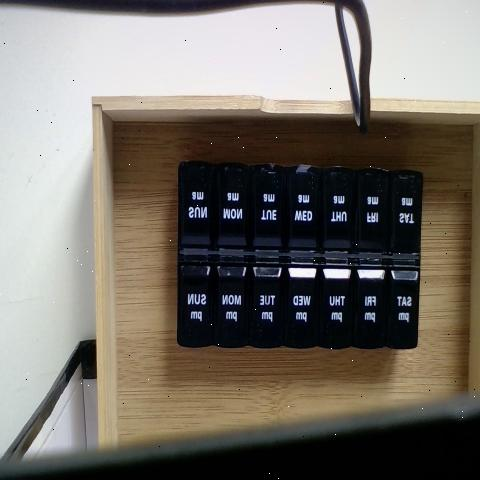FRI-am: (357, 176, 388, 255)
FRI-pm: (356, 264, 385, 349)
MON-am: (221, 174, 253, 255)
MON-pm: (221, 267, 253, 346)
SAT-am: (388, 173, 420, 255)
SAT-pm: (387, 267, 418, 352)
SUN-am: (179, 170, 218, 250)
SUN-pm: (183, 262, 217, 342)
THU-am: (324, 174, 354, 258)
THU-pm: (322, 262, 355, 350)
TUE-am: (257, 174, 288, 251)
TUE-pm: (253, 260, 288, 346)
WED-am: (290, 172, 321, 256)
WED-pm: (289, 260, 320, 349)
